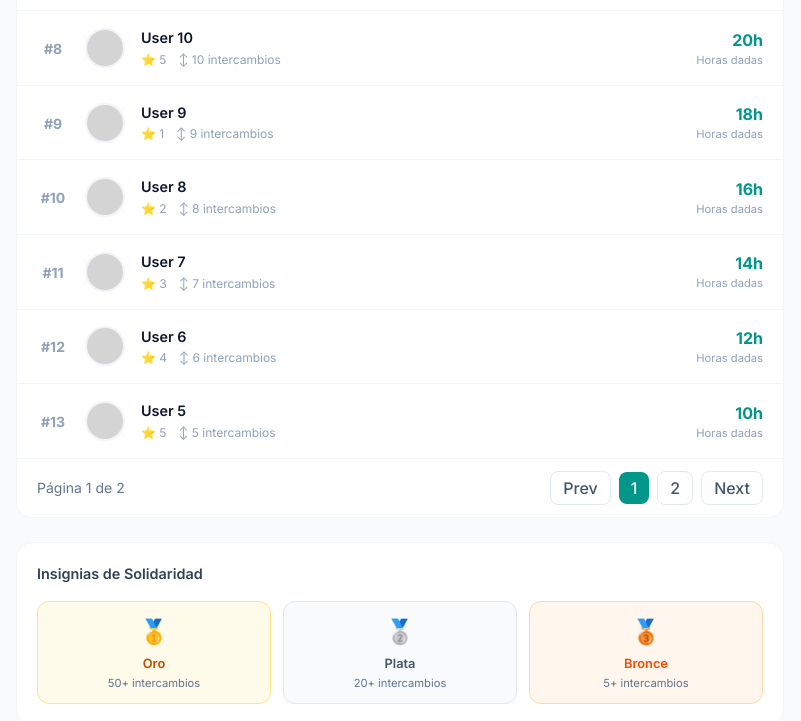
Leaderboard › excludes users from Spain and Jerez and handles pagination
(page scrolled)
Expected: the text "Página 1 de 2" is shown, [37,478,125,498]
Click the button "Next": (732, 488) [701,471,763,505]
(page scrolled)
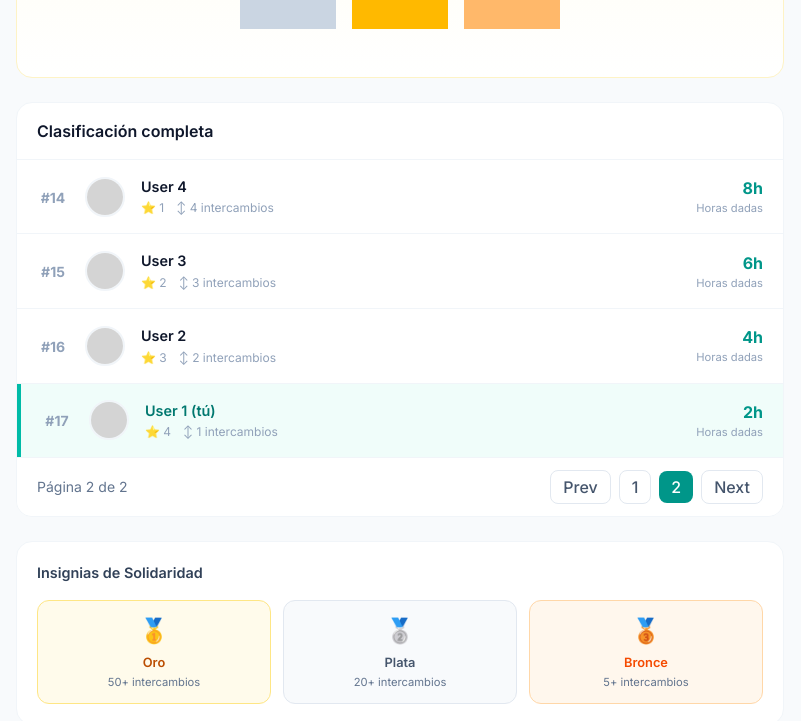
Expected: the text "Página 2 de 2" is shown, [37,477,128,497]
